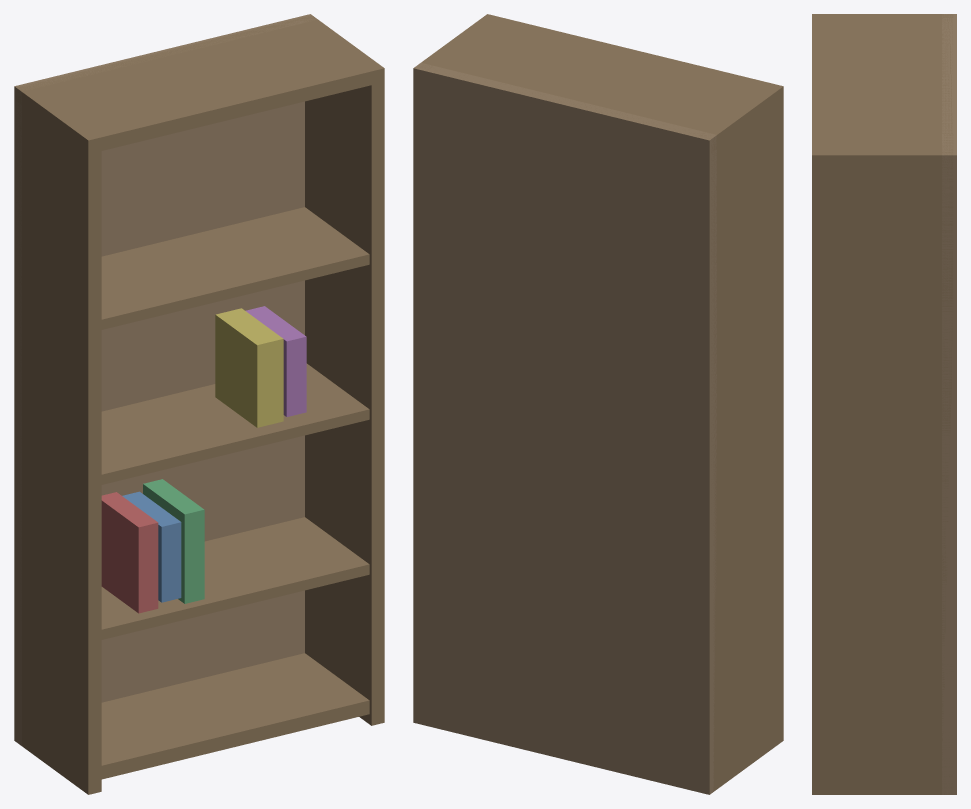
The model's file is bookcaseOpen.glb.
3 views of the same model, side by side, from view 1: azimuth 30°, elevation 25°; view 2: azimuth 150°, elevation 25°; view 3: azimuth 270°, elevation 25° (orthographic). The views are drawn at different scales.
Bounding box in the file's own units: 0.9 × 1.9 × 0.39.
